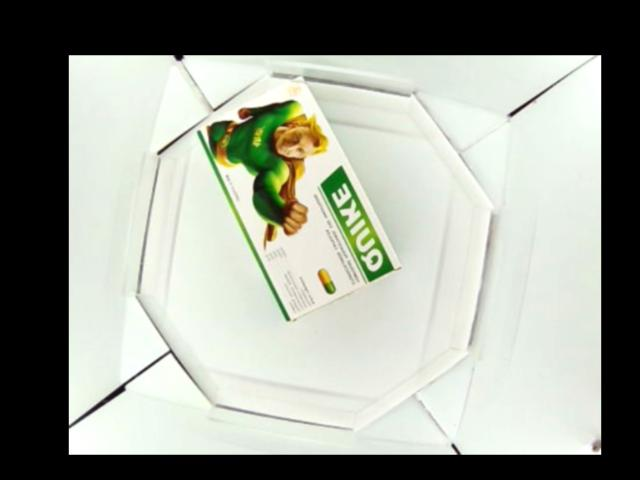Medicine: (197, 75, 399, 327)
